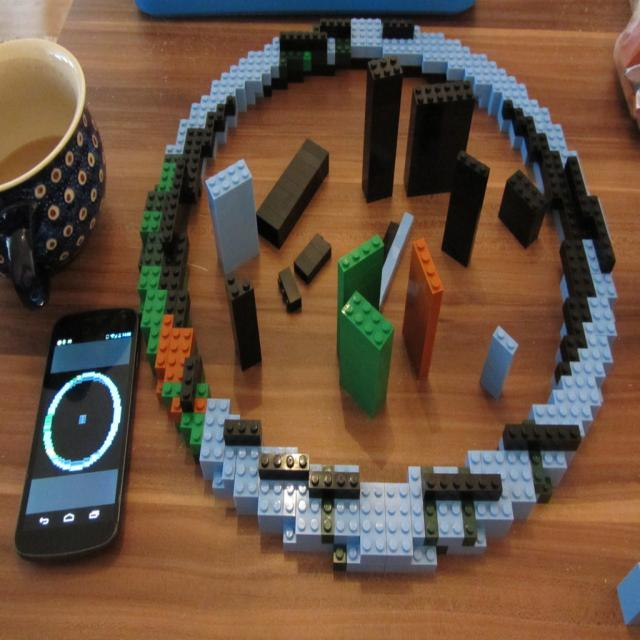Mobile-phone: (15, 311, 136, 566)
